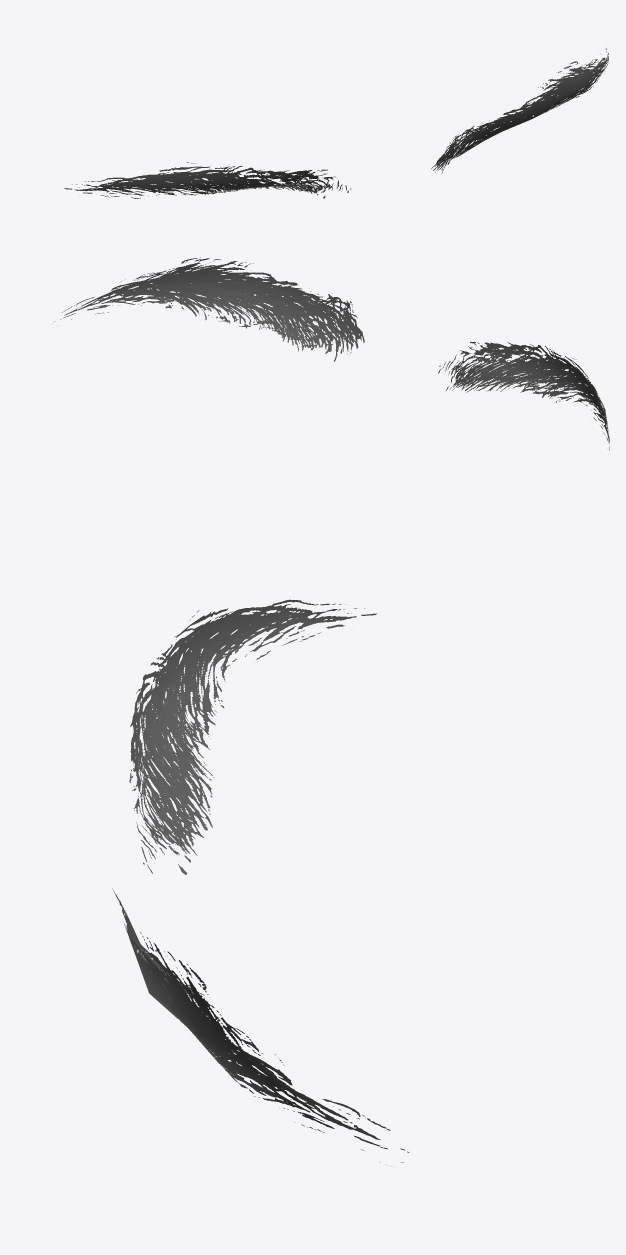
The model's file is brow012.glb.
The picture shows the model from 3 angles, top to bottom: view 1: azimuth 30°, elevation 25°; view 2: azimuth 150°, elevation 25°; view 3: azimuth 270°, elevation 25°; orthographic projection. The views are drawn at different scales.
Visible parts, largest first — view 1: editor_brow012; view 2: editor_brow012; view 3: editor_brow012.
Part boxes in pixels (box(x1,y1,x2,y2)): editor_brow012: box(64, 48, 608, 198); editor_brow012: box(52, 257, 609, 450); editor_brow012: box(112, 599, 409, 1162).
Bounding box in the file's own units: 0.11 × 0.0188 × 0.0333.
Materials: 1 (1 with a texture image).
